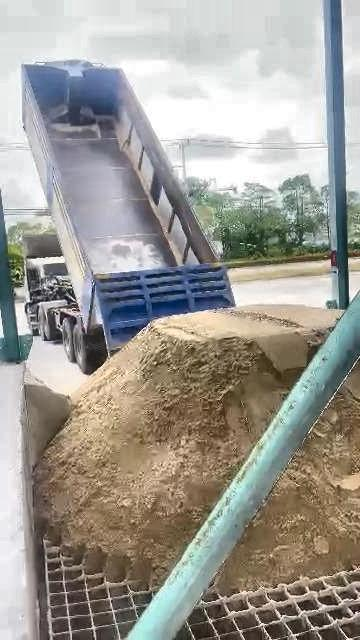sand: (36, 307, 337, 584), (219, 368, 360, 588), (22, 372, 70, 473)
